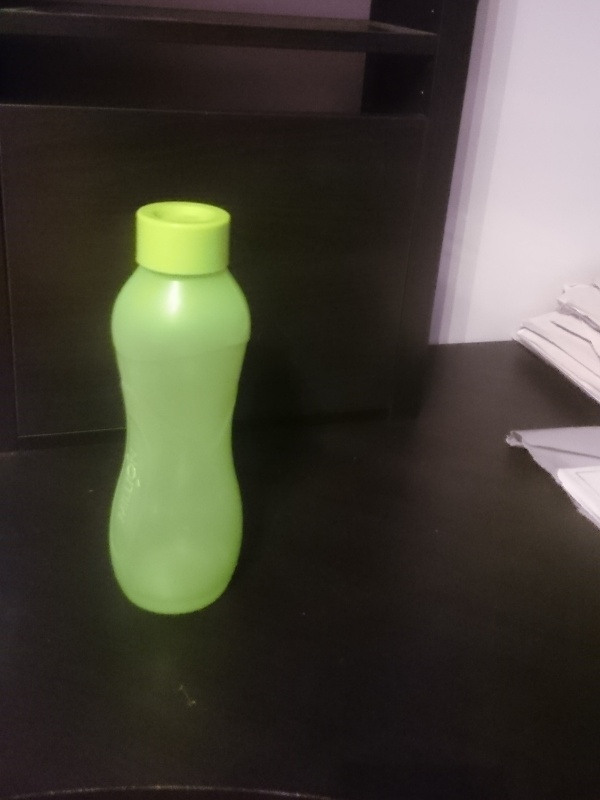my bottle: (106, 199, 250, 616)
